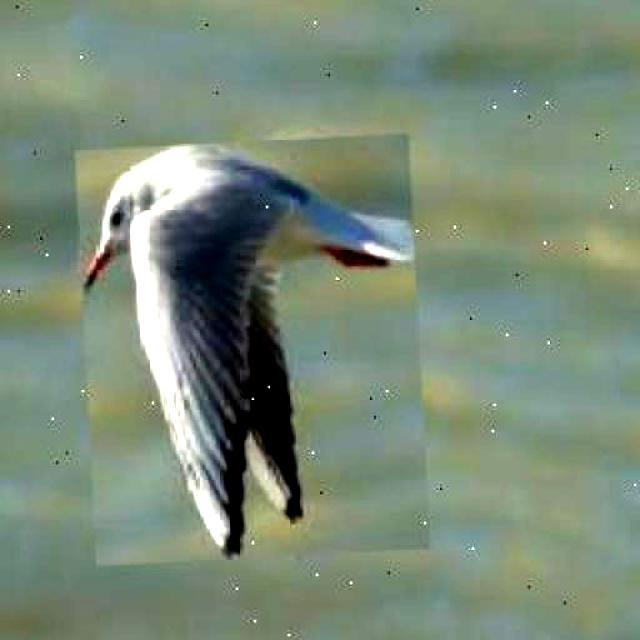airplane: (74, 134, 430, 566)
